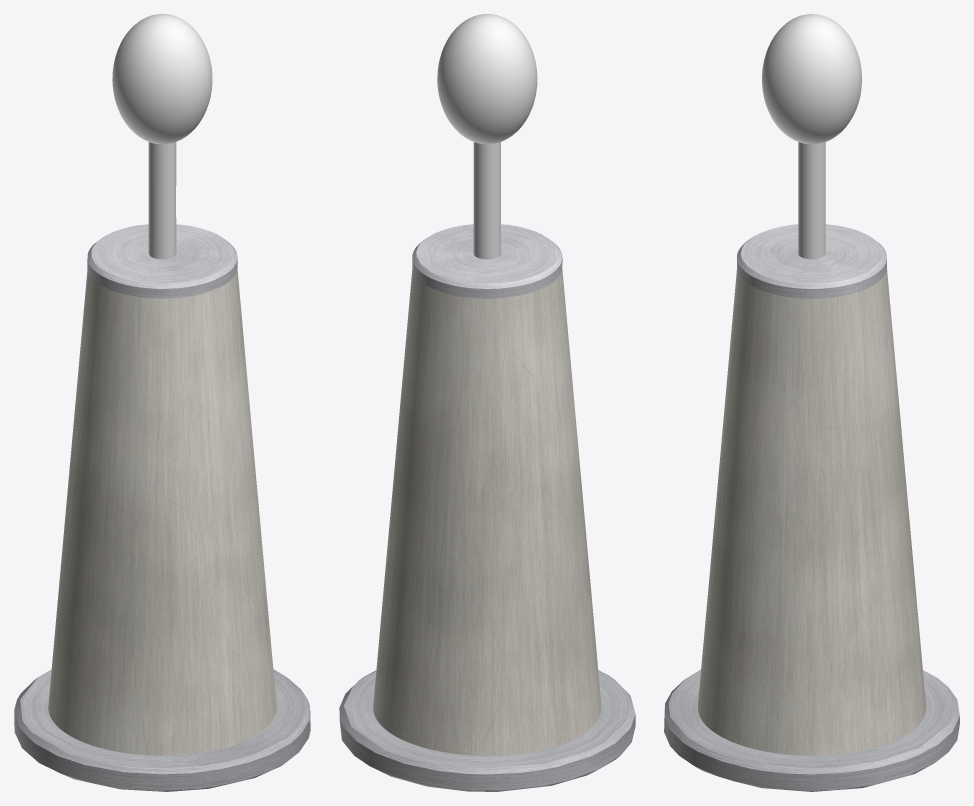
Rendered from bishop-white.glb.
3 renders of one model, left to right at view 1: azimuth 30°, elevation 25°; view 2: azimuth 150°, elevation 25°; view 3: azimuth 270°, elevation 25°, orthographic.
Visible parts, largest first — view 1: ferro-orbis_bishop_white; view 2: ferro-orbis_bishop_white; view 3: ferro-orbis_bishop_white.
Part boxes in pixels (bbox=[...]): ferro-orbis_bishop_white: bbox=[14, 14, 310, 791]; ferro-orbis_bishop_white: bbox=[339, 14, 635, 791]; ferro-orbis_bishop_white: bbox=[664, 14, 959, 791].
Bounding box in the file's own units: 0.5088 × 1.35 × 0.5078.
Materials: 5 (3 with a texture image).
